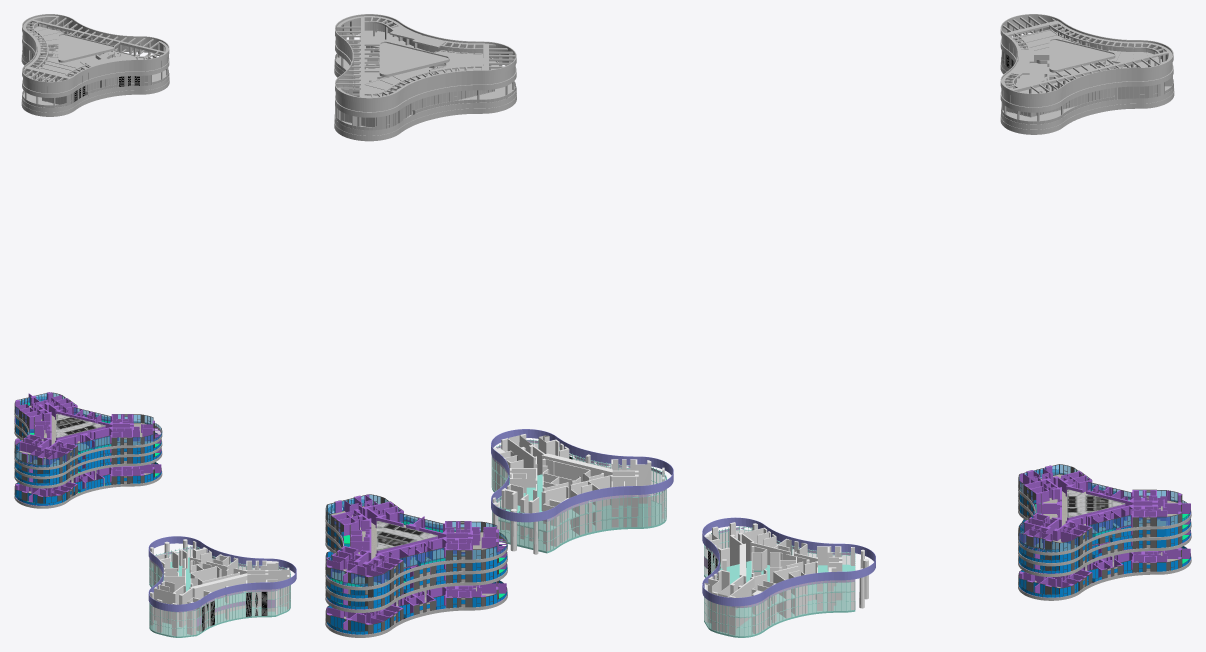
3 renders of one model, left to right at view 1: azimuth 30°, elevation 25°; view 2: azimuth 150°, elevation 25°; view 3: azimuth 270°, elevation 25°, orthographic. The views are drawn at different scales.
Visible parts, largest first — view 1: wall_roof, Wall, Glass, panel_roof, Decoration, Windows, Floor, APT_21-43_Int_5P_001, glass_roof, APT_21-43_Int_5P, hall_21-43, APT_21-43_Int_3M_001 (+17 smaller); view 2: wall_roof, Wall, Glass, panel_roof, Decoration, Floor, Windows, glass_roof, APT_21-43_Int_5R_001, floor_roof, APT_21-43_Int_5P_001, APT_5-7_Int_4Re (+18 smaller); view 3: wall_roof, Wall, Glass, panel_roof, Decoration, Floor, Windows, APT_21-43_Int_5P, APT_21-43_Int_5R, glass_roof, APT_5-7_Int_4Rw_001, floor_roof (+10 smaller).
Part boxes in pixels (x1,y1,x2,y2): wall_roof: (21,14,169,116); Wall: (150,539,290,635); Glass: (149,549,290,636); panel_roof: (22,18,169,112); Decoration: (148,536,296,611); Windows: (149,546,290,636); Floor: (149,557,290,637); APT_21-43_Int_5P_001: (14,438,68,469); glass_roof: (22,31,168,107); APT_21-43_Int_5P: (122,414,162,447); hall_21-43: (51,413,105,444); APT_21-43_Int_3M_001: (84,426,132,451); wall_roof: (334,14,516,141); Wall: (492,434,664,554); Glass: (491,443,666,551); panel_roof: (334,19,516,135); Decoration: (491,429,673,522); Floor: (491,470,666,553); Windows: (491,439,666,551); glass_roof: (335,53,515,130); APT_21-43_Int_5R_001: (342,548,414,590); floor_roof: (335,30,515,126); APT_21-43_Int_5P_001: (458,521,507,562); APT_5-7_Int_4Re: (446,583,507,611); wall_roof: (1000,14,1174,134); Wall: (704,522,868,634); Glass: (704,530,855,636); panel_roof: (1001,19,1173,129); Decoration: (702,517,875,606); Floor: (704,561,855,637); Windows: (704,526,855,636); APT_21-43_Int_5P: (1018,522,1087,555); APT_21-43_Int_5R: (1111,503,1191,531); glass_roof: (1001,51,1173,124); APT_5-7_Int_4Rw_001: (1132,549,1191,575); floor_roof: (1001,33,1170,124).
Size of the model in its own units: 5193 by 16410 by 13353.
